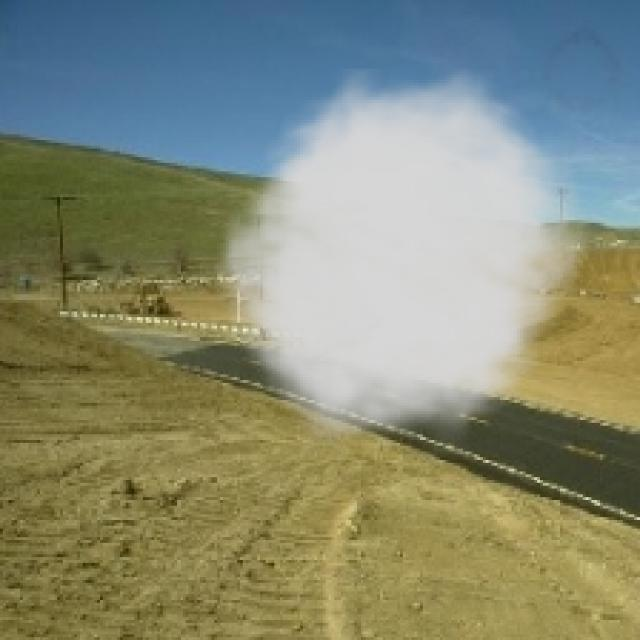smoke: (203, 69, 600, 457)
